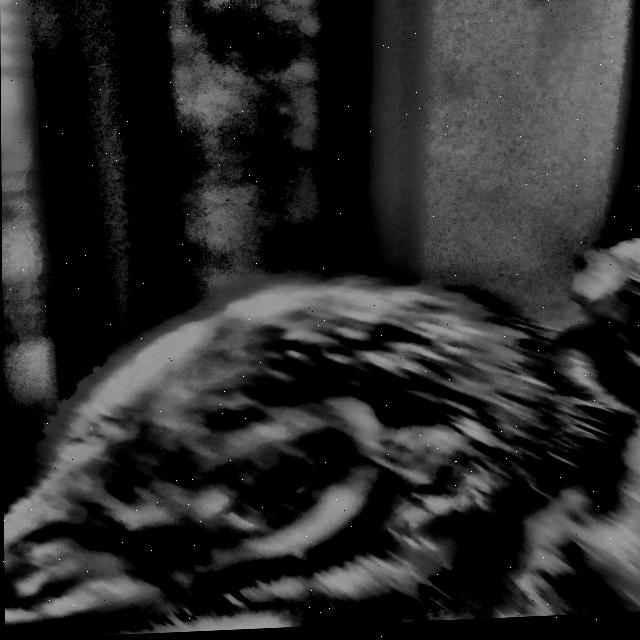Coryza: (2, 266, 627, 640)
